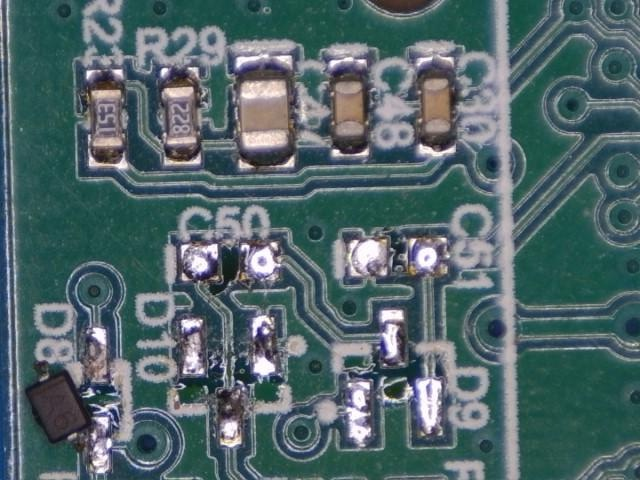pcb_defect: (24, 360, 111, 473)
